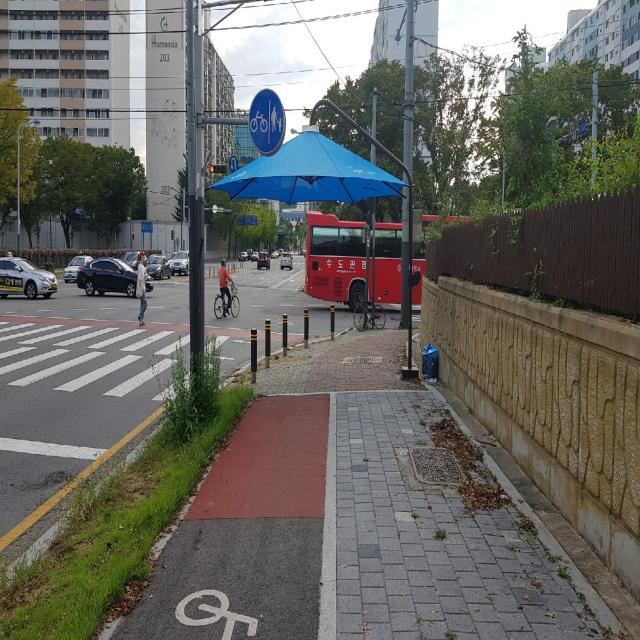횡단보도: (4, 323, 175, 396), (389, 303, 422, 322)
